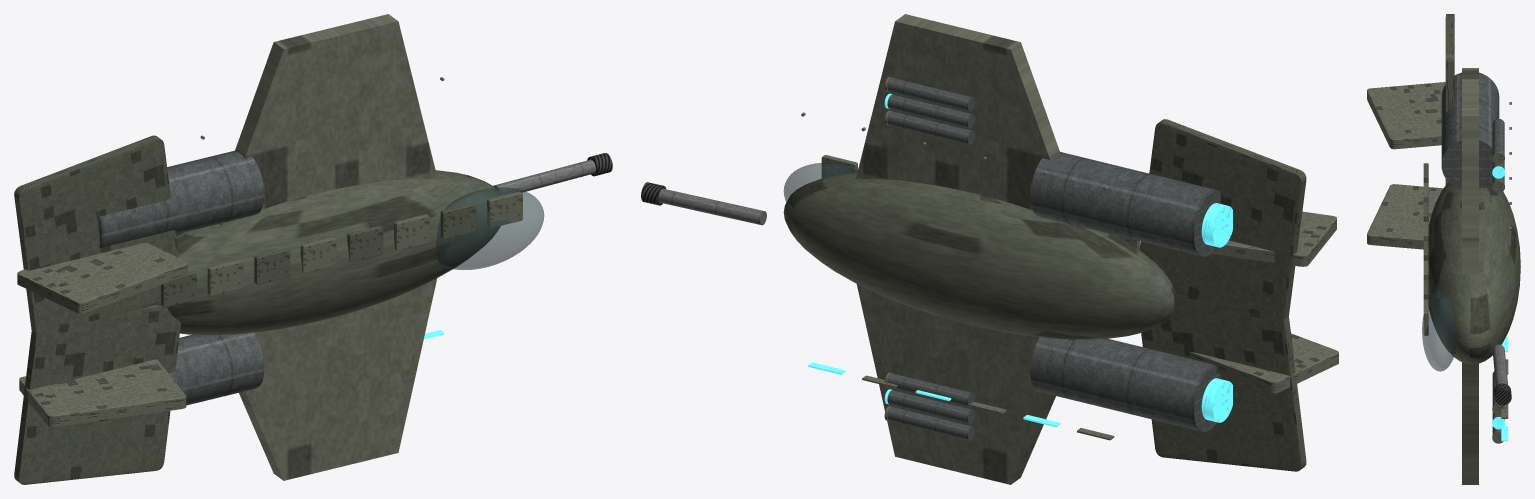
File: v-u24-vanguard-light-gunship-lod0.glb
3 views of the same model, side by side, from view 1: azimuth 30°, elevation 25°; view 2: azimuth 150°, elevation 25°; view 3: azimuth 270°, elevation 25° (orthographic). The views are drawn at different scales.
Visible parts, largest first — view 1: combat_main_wing, combat_fuselage, combat_tailplane_-1, combat_tailplane_1, combat_engine_1, combat_fin_1, combat_fin_-1, combat_engine_0, combat_canopy, combat_gun_barrel_0, airframe_panel_2, airframe_panel_1 (+6 smaller); view 2: combat_main_wing, combat_fuselage, combat_tailplane_1, combat_tailplane_-1, combat_engine_1, combat_engine_0, combat_fin_-1, combat_fin_1, combat_gun_barrel_0, combat_1_tube_1, combat_-1_tube_2, combat_1_tube_2 (+6 smaller); view 3: combat_fuselage, combat_main_wing, combat_fin_1, combat_engine_1, combat_fin_-1, combat_canopy, combat_tailplane_1, combat_gun_barrel_0, combat_1_tube_3, combat_gun_muzzle_0, airframe_panel_7.
Part boxes in pixels (<box>): combat_main_wing: <box>219,14,437,480</box>; combat_fuselage: <box>153,170,501,335</box>; combat_tailplane_-1: <box>14,305,180,484</box>; combat_tailplane_1: <box>14,135,178,337</box>; combat_engine_1: <box>99,150,264,247</box>; combat_fin_1: <box>17,242,187,313</box>; combat_fin_-1: <box>19,359,186,427</box>; combat_engine_0: <box>99,332,264,421</box>; combat_canopy: <box>436,187,544,269</box>; combat_gun_barrel_0: <box>493,159,595,195</box>; airframe_panel_2: <box>254,248,290,284</box>; airframe_panel_1: <box>207,259,243,296</box>; combat_main_wing: <box>856,14,1074,484</box>; combat_fuselage: <box>783,173,1176,339</box>; combat_tailplane_1: <box>1139,119,1306,319</box>; combat_tailplane_-1: <box>1141,293,1306,471</box>; combat_engine_1: <box>1030,152,1220,256</box>; combat_engine_0: <box>1030,337,1220,431</box>; combat_fin_-1: <box>1190,333,1338,393</box>; combat_fin_1: <box>1212,211,1336,266</box>; combat_gun_barrel_0: <box>658,188,766,225</box>; combat_1_tube_1: <box>887,111,975,144</box>; combat_-1_tube_2: <box>887,390,975,423</box>; combat_1_tube_2: <box>887,94,975,128</box>; combat_fuselage: <box>1428,182,1520,364</box>; combat_main_wing: <box>1462,68,1478,484</box>; combat_fin_1: <box>1367,82,1445,149</box>; combat_engine_1: <box>1441,72,1499,189</box>; combat_fin_-1: <box>1367,184,1443,249</box>; combat_canopy: <box>1422,289,1456,371</box>; combat_tailplane_1: <box>1445,14,1454,184</box>; combat_gun_barrel_0: <box>1492,344,1507,385</box>; combat_1_tube_3: <box>1492,118,1504,155</box>; combat_gun_muzzle_0: <box>1494,383,1511,405</box>; airframe_panel_7: <box>1423,299,1428,335</box>.
Size of what is drawn, in the model's own units: 12.37 by 8.18 by 3.09.
7 materials, 7 textured.
